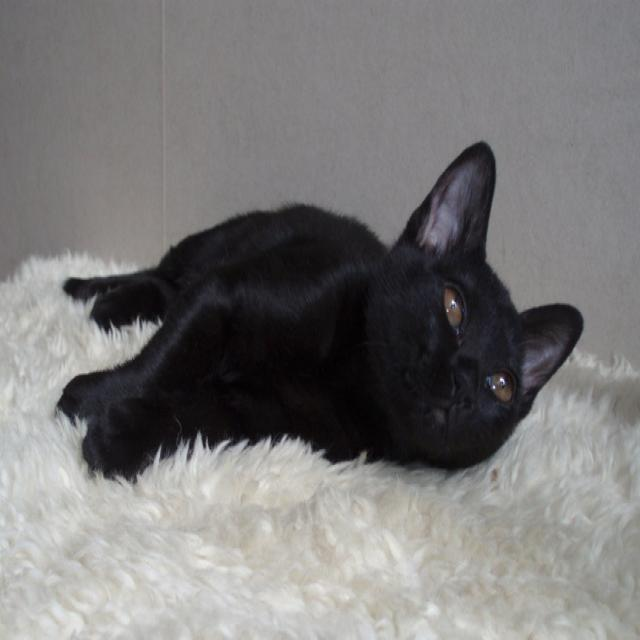Bombay: (363, 141, 581, 465)
